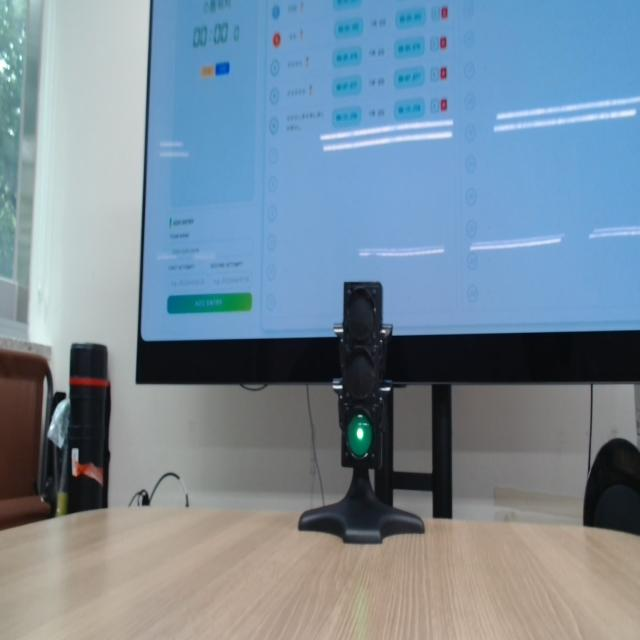green_light: (347, 414, 373, 458)
